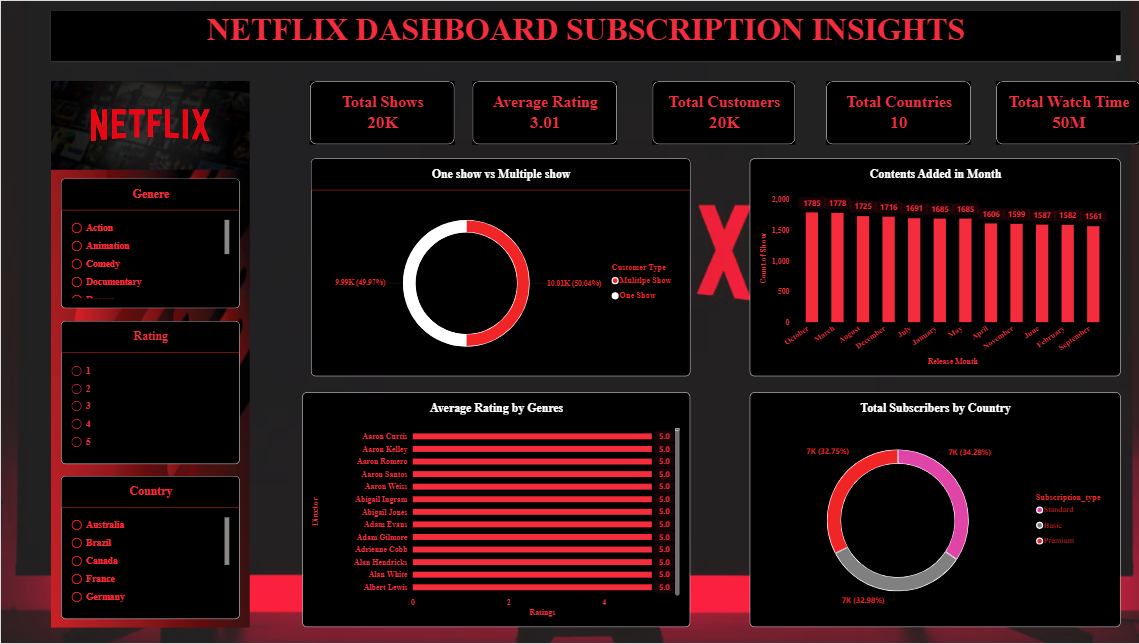

What the dashboard file says about the page in this screenshot:
{"tool":"powerbi","page":{"name":"Subscription Insights","canvas":[1920,1080],"ordinal":2},"visuals":[{"type":"cardVisual","fields":{"Data":["netflix_customer_ratings.Average Rating"]},"box":[794,134,244.9,107],"z":0},{"type":"cardVisual","fields":{"Data":["netflix_customer_ratings.Total Countries"]},"box":[1388,134,244.9,107],"z":1000},{"type":"cardVisual","fields":{"Data":["netflix_customer_ratings.Total Customers"]},"box":[1096,134,241.4,107.1],"z":2000},{"type":"image","box":[84,134,334,150],"z":3000},{"type":"image","box":[84,284,334,770],"z":4000},{"type":"cardVisual","fields":{"Data":["netflix_dataset.Total Shows"]},"box":[520,134,244.9,107],"z":5000},{"type":"donutChart","title":"One show vs Multiple show","fields":{"Y":["CountNonNull(netflix_customer_ratings.customer_id)"],"Category":["netflix_customer_ratings.Customer Type"]},"box":[520.8,265.5,638.1,366.4],"z":6000},{"type":"columnChart","title":"Contents Added in Month","fields":{"Category":["netflix_dataset.Release Month"],"Y":["CountNonNull(netflix_customer_ratings.show_id)"]},"box":[1259.7,265.5,623.7,366.4],"z":7000},{"type":"clusteredBarChart","title":"Average Rating by Genres","fields":{"Y":["netflix_customer_ratings.Director Rating"],"Category":["netflix_dataset.director"]},"box":[506.3,658.7,652.5,395.2],"z":8000},{"type":"donutChart","title":"Total Subscribers by Country","fields":{"Category":["netflix_customer_ratings.subscription_type"],"Y":["netflix_customer_ratings.Total Subscribers"]},"box":[1259.7,658.7,623.7,395.2],"z":9000},{"type":"listSlicer","title":"Genere","fields":{"Values":["netflix_dataset.genre"]},"box":[100.9,298.5,300.5,218.2],"z":10000},{"type":"listSlicer","title":"Rating","fields":{"Values":["netflix_customer_ratings.rating"]},"box":[100.9,539.3,300.5,240.8],"z":11000},{"type":"listSlicer","title":"Country","fields":{"Values":["netflix_customer_ratings.country"]},"box":[100.9,798.6,300.5,240.8],"z":12000},{"type":"textbox","title":"NETFLIX DASHBOARD SUBSCRIPTION INSIGHTS","box":[84,16,1800,84],"z":13000},{"type":"cardVisual","fields":{"Data":["netflix_customer_ratings.Total Watch Time"]},"box":[1675.1,134,244.9,107],"z":14000}]}

Visuals, with their boxes in screenshot pixels (x1, y1, x2, y2), scaled from the page's 1920x1080 canvas onto the 1139x644 screenshot:
cardVisual - netflix_customer_ratings.Average Rating: [left=471, top=80, right=616, bottom=144]
cardVisual - netflix_customer_ratings.Total Countries: [left=823, top=80, right=969, bottom=144]
cardVisual - netflix_customer_ratings.Total Customers: [left=650, top=80, right=793, bottom=144]
image: [left=50, top=80, right=248, bottom=169]
image: [left=50, top=169, right=248, bottom=628]
cardVisual - netflix_dataset.Total Shows: [left=308, top=80, right=454, bottom=144]
"One show vs Multiple show" donutChart: [left=309, top=158, right=687, bottom=377]
"Contents Added in Month" columnChart: [left=747, top=158, right=1117, bottom=377]
"Average Rating by Genres" clusteredBarChart: [left=300, top=393, right=687, bottom=628]
"Total Subscribers by Country" donutChart: [left=747, top=393, right=1117, bottom=628]
"Genere" listSlicer: [left=60, top=178, right=238, bottom=308]
"Rating" listSlicer: [left=60, top=322, right=238, bottom=465]
"Country" listSlicer: [left=60, top=476, right=238, bottom=620]
"NETFLIX DASHBOARD SUBSCRIPTION INSIGHTS" textbox: [left=50, top=10, right=1118, bottom=60]
cardVisual - netflix_customer_ratings.Total Watch Time: [left=994, top=80, right=1138, bottom=144]
